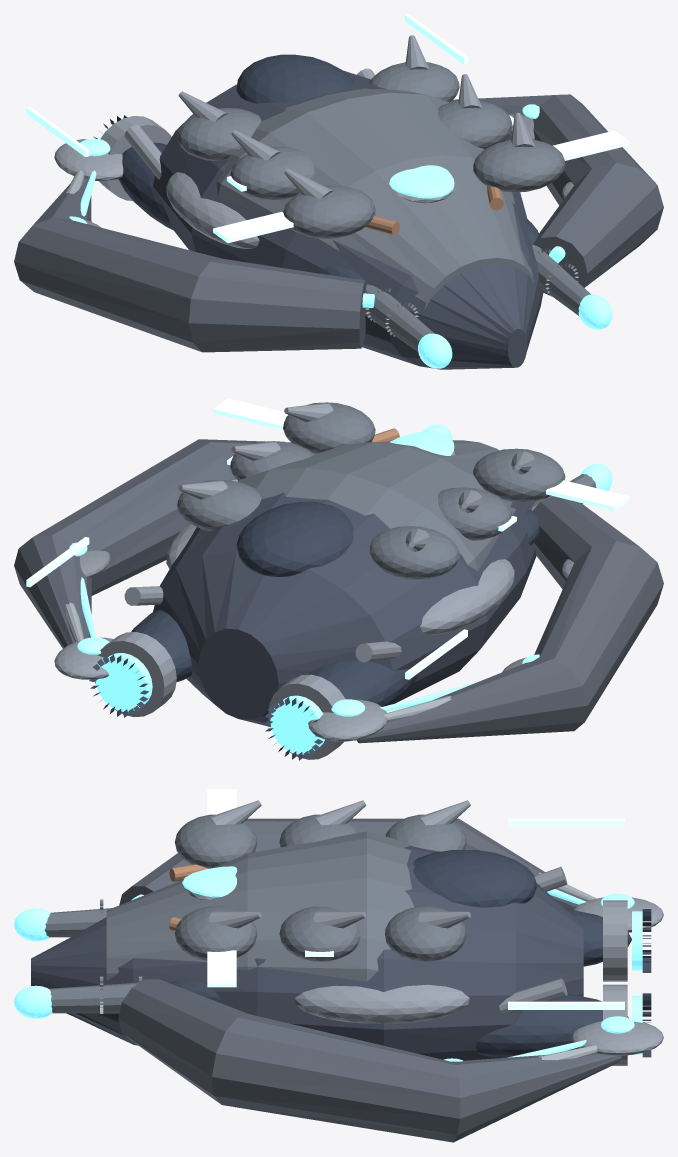
The model's file is npc_devolarium.glb.
3 views of the same model, one above another, from view 1: azimuth 30°, elevation 25°; view 2: azimuth 150°, elevation 25°; view 3: azimuth 270°, elevation 25° (orthographic).
Parts seen in each view (by area): view 1: armored_scythe_-1, upper_armor_scar, keel_pressure_hull, armored_scythe_1, destroyer_turret, V59 trim baked, dreadnox_dorsal_plating_1_0, dreadnox_dorsal_plating_-1_0, dreadnox_dorsal_plating_-1_1, dreadnox_dorsal_plating_-1_2, heavy_shield_pad_-1, dreadnox_dorsal_plating_1_1 (+16 smaller); view 2: keel_pressure_hull, armored_scythe_-1, armored_scythe_1, upper_armor_scar, destroyer_turret, V59 trim baked, dreadnox_dorsal_plating_-1_2, heavy_shield_pad_-1, dreadnox_dorsal_plating_-1_0, dreadnox_dorsal_plating_1_0, engine_armor_-1, exhaust_coil_1 (+22 smaller); view 3: armored_scythe_1, keel_pressure_hull, upper_armor_scar, destroyer_turret, heavy_shield_pad_1, V59 trim baked, armored_scythe_-1, engine_armor_1, dreadnox_dorsal_plating_1_2, dreadnox_dorsal_plating_-1_0, dreadnox_dorsal_plating_1_1, dreadnox_dorsal_plating_1_0 (+21 smaller).
Part boxes in pixels (<box>): armored_scythe_-1: <box>14,179,366,352</box>; upper_armor_scar: <box>216,88,534,310</box>; keel_pressure_hull: <box>153,70,543,369</box>; armored_scythe_1: <box>450,94,663,296</box>; destroyer_turret: <box>236,54,353,103</box>; V59 trim baked: <box>26,14,629,243</box>; dreadnox_dorsal_plating_1_0: <box>473,139,565,192</box>; dreadnox_dorsal_plating_-1_0: <box>283,185,375,238</box>; dreadnox_dorsal_plating_-1_1: <box>230,146,314,199</box>; dreadnox_dorsal_plating_-1_2: <box>177,108,261,160</box>; heavy_shield_pad_-1: <box>166,172,259,248</box>; dreadnox_dorsal_plating_1_1: <box>438,101,512,149</box>; keel_pressure_hull: <box>153,492,536,726</box>; armored_scythe_-1: <box>357,496,663,743</box>; armored_scythe_1: <box>14,439,315,648</box>; upper_armor_scar: <box>238,440,515,570</box>; destroyer_turret: <box>236,501,353,576</box>; V59 trim baked: <box>26,398,629,679</box>; dreadnox_dorsal_plating_-1_2: <box>369,526,459,579</box>; heavy_shield_pad_-1: <box>420,559,514,634</box>; dreadnox_dorsal_plating_-1_0: <box>473,448,565,502</box>; dreadnox_dorsal_plating_1_0: <box>283,402,375,453</box>; engine_armor_-1: <box>308,660,416,706</box>; exhaust_coil_1: <box>95,632,176,716</box>; armored_scythe_1: <box>118,979,621,1142</box>; keel_pressure_hull: <box>31,846,583,1060</box>; upper_armor_scar: <box>106,831,413,981</box>; destroyer_turret: <box>413,850,537,907</box>; heavy_shield_pad_1: <box>294,984,469,1023</box>; V59 trim baked: <box>207,789,624,1009</box>; armored_scythe_-1: <box>119,818,578,909</box>; engine_armor_1: <box>475,993,628,1057</box>; dreadnox_dorsal_plating_1_2: <box>385,906,466,961</box>; dreadnox_dorsal_plating_-1_0: <box>174,814,257,868</box>; dreadnox_dorsal_plating_1_1: <box>279,906,360,961</box>; dreadnox_dorsal_plating_1_0: <box>175,906,257,960</box>.
Size of the model in its own units: 4.26 by 1.43 by 4.22.
